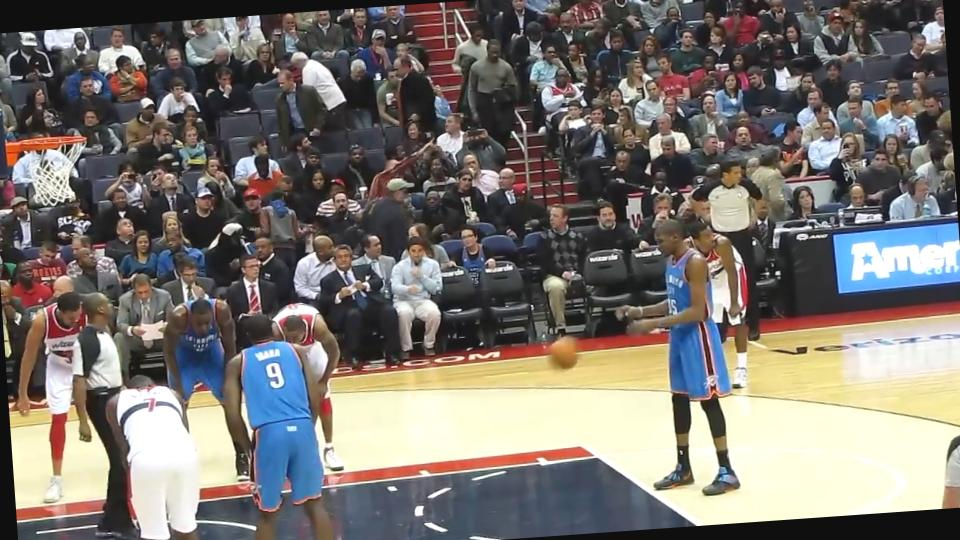hoop: (0, 126, 92, 158)
